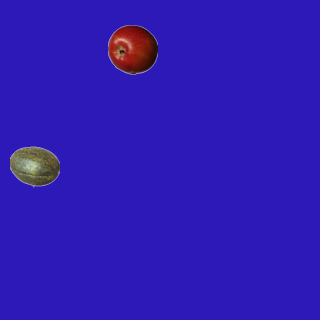Apple Braeburn: (107, 24, 157, 74)
Melon Piel de Sapo: (9, 141, 59, 191)
